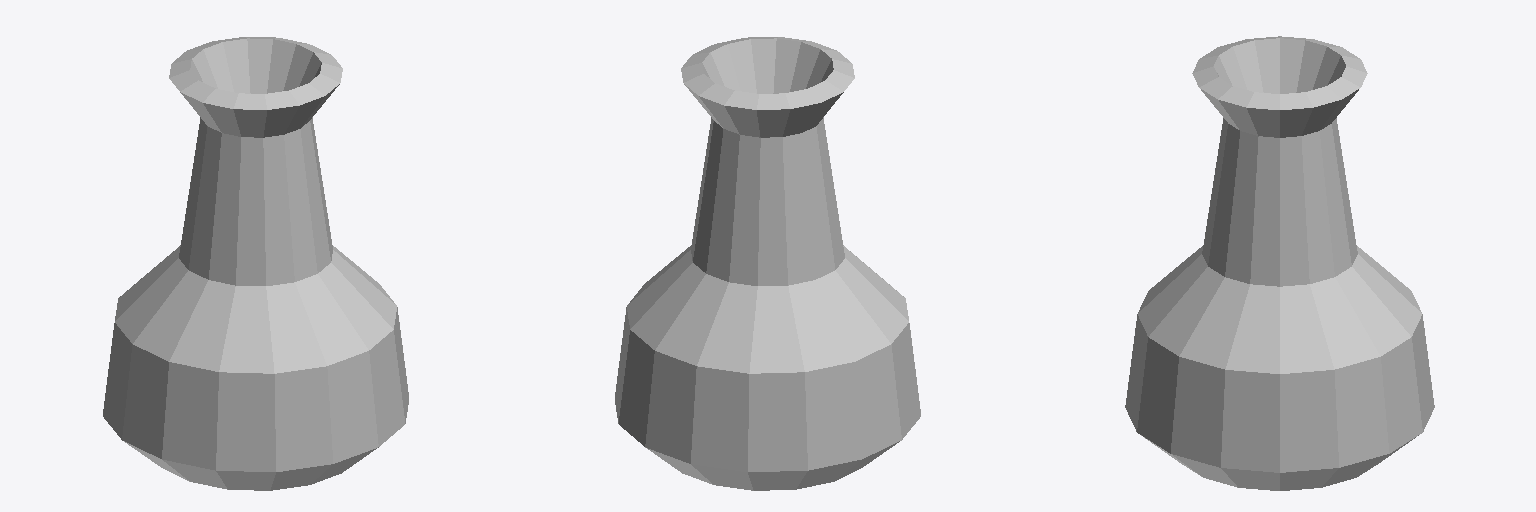
The model's file is Artifact3.obj.
3 views of the same model, side by side, from view 1: azimuth 30°, elevation 25°; view 2: azimuth 150°, elevation 25°; view 3: azimuth 270°, elevation 25° (orthographic).
Visible parts, largest first — view 1: Artifact.002_Cylinder.003; view 2: Artifact.002_Cylinder.003; view 3: Artifact.002_Cylinder.003.
Boxes of the visible parts, x1,y1,x2,y2 form: Artifact.002_Cylinder.003: [103, 37, 408, 490]; Artifact.002_Cylinder.003: [615, 37, 920, 490]; Artifact.002_Cylinder.003: [1125, 36, 1434, 490].
Bounding box in the file's own units: 1.44 × 1.94 × 1.44.